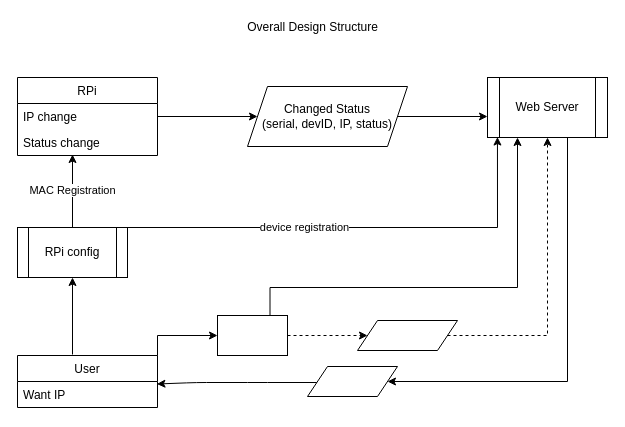
Some shapes in this 625 by 427 pixel diagram are drawn without their labels. The shapes that lost their labels are listed below. From the top down, each one's box as (x1, y1, x2, y2) in pixels, then its label:
(216, 314, 288, 356): IDP
(356, 320, 458, 350): auth info
(306, 366, 398, 396): RPi info
